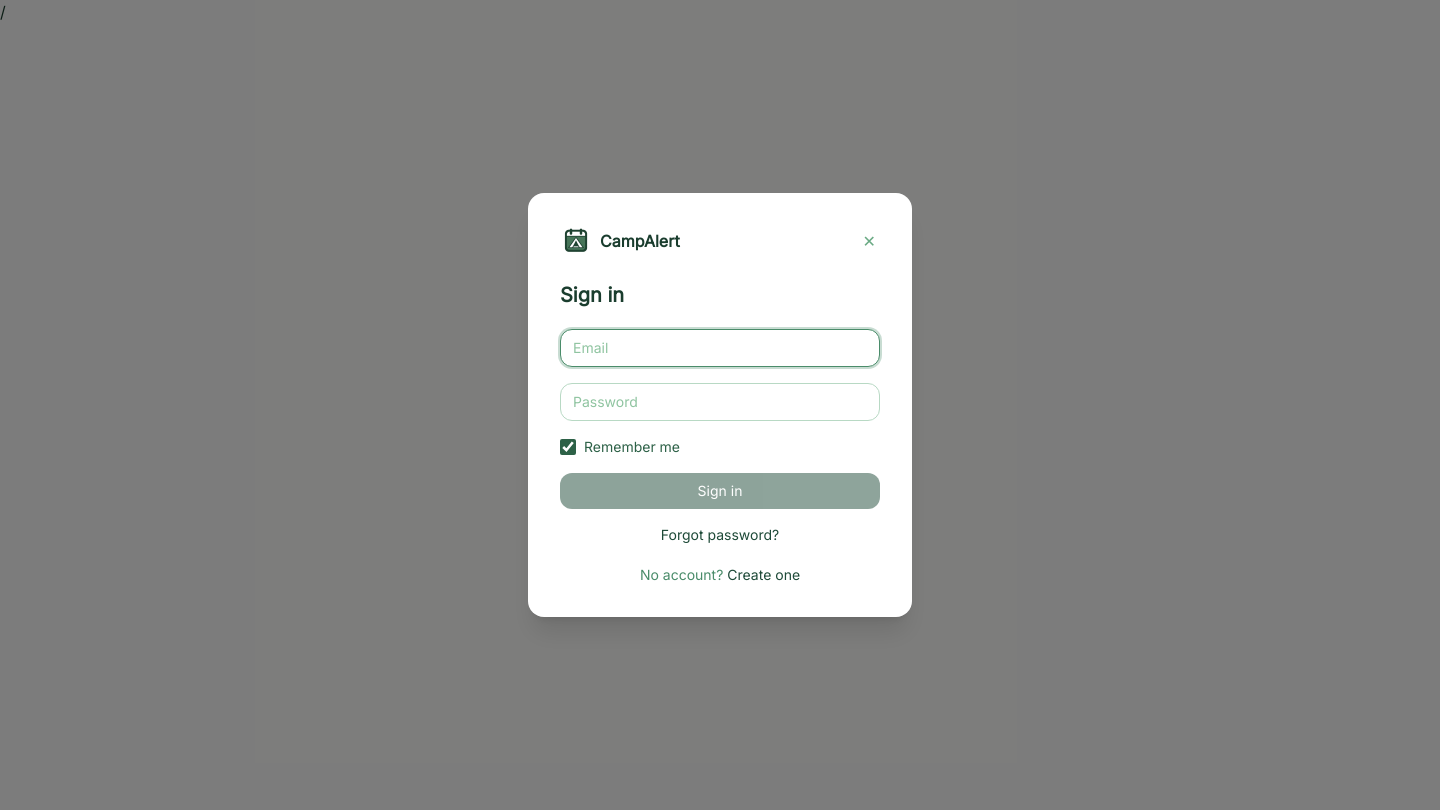
Test: LoginModal › Sign in button enabled when both fields have values
The image size is (1440, 810).
In the field with placeholder "Email": (720, 348) [560,329,880,367], type "a@b.com"
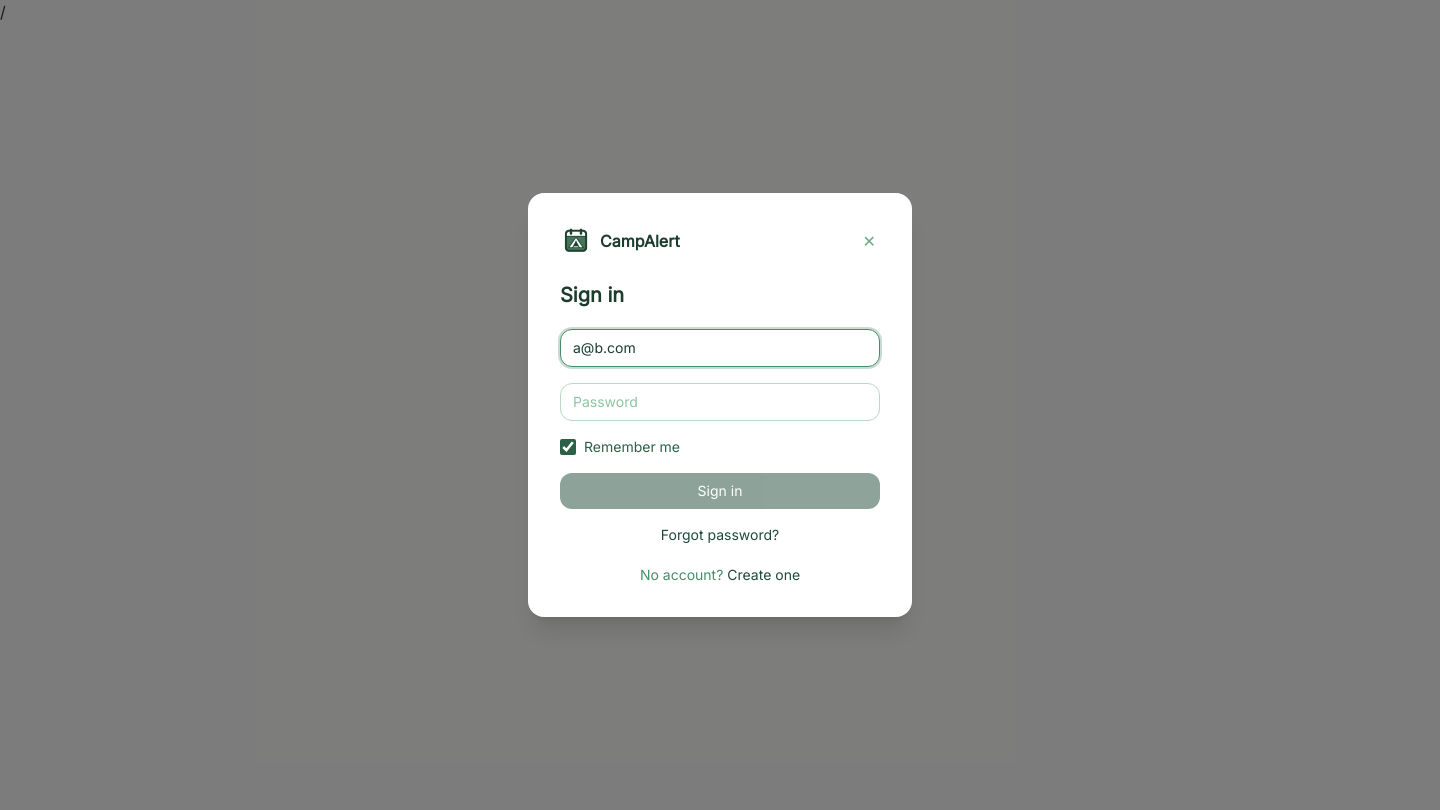
In the password field with placeholder "Password": (720, 402) [560,383,880,421], type "pass"
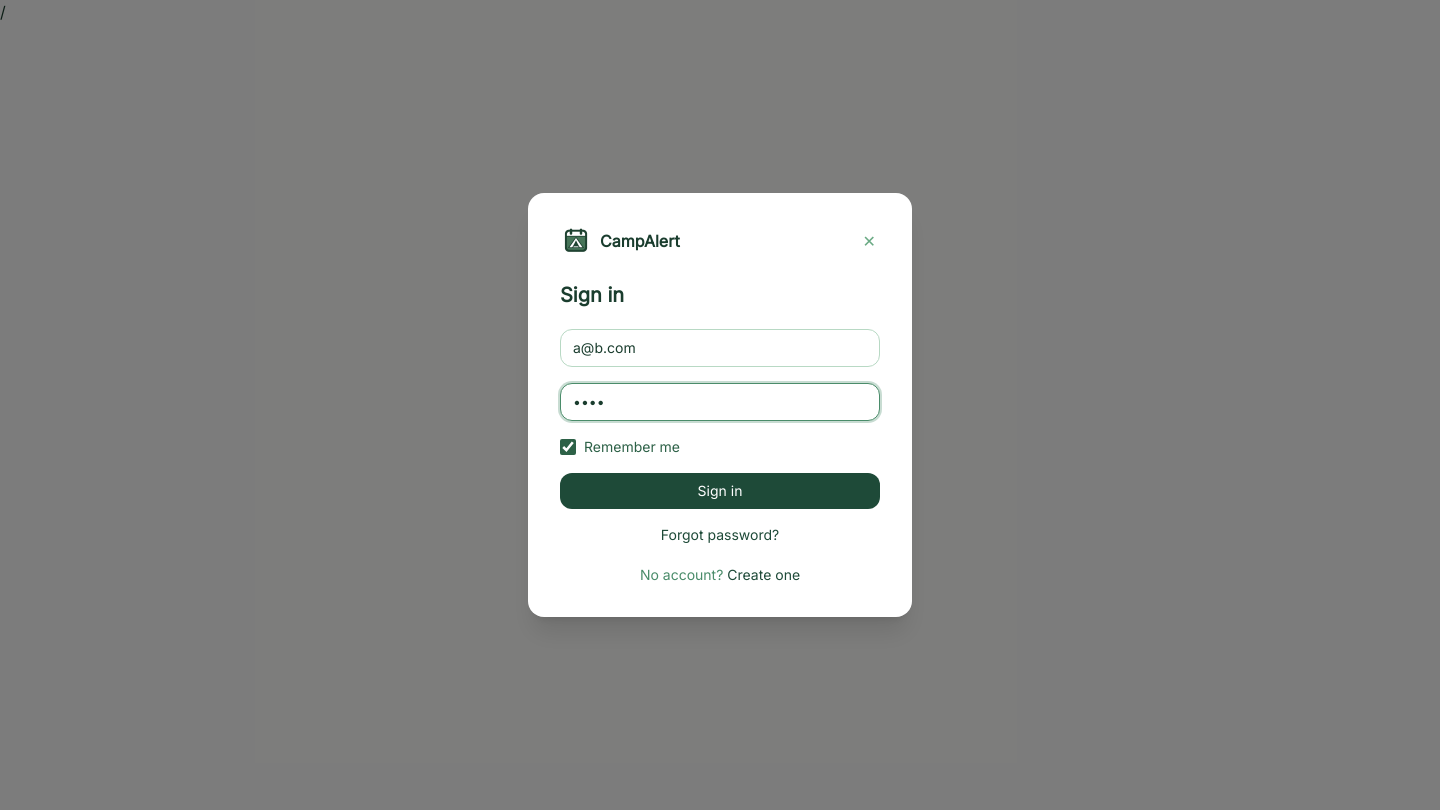
Check: the button "Sign in" is enabled, box [560,473,880,509]
